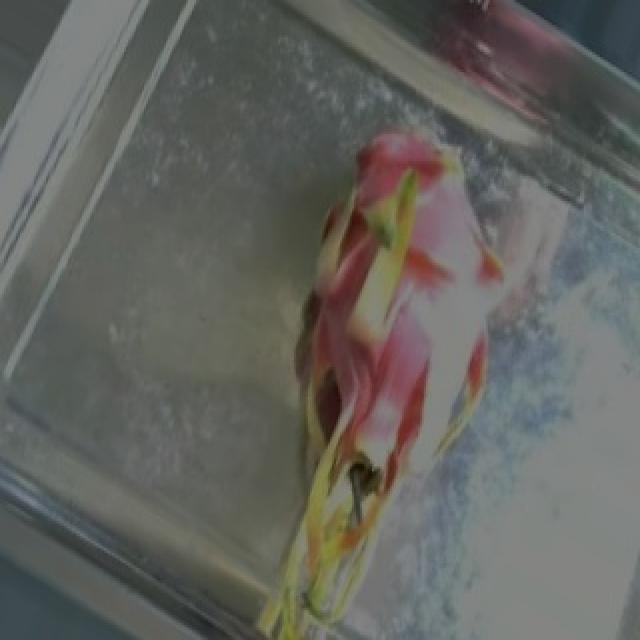fruit: (180, 59, 612, 514)
